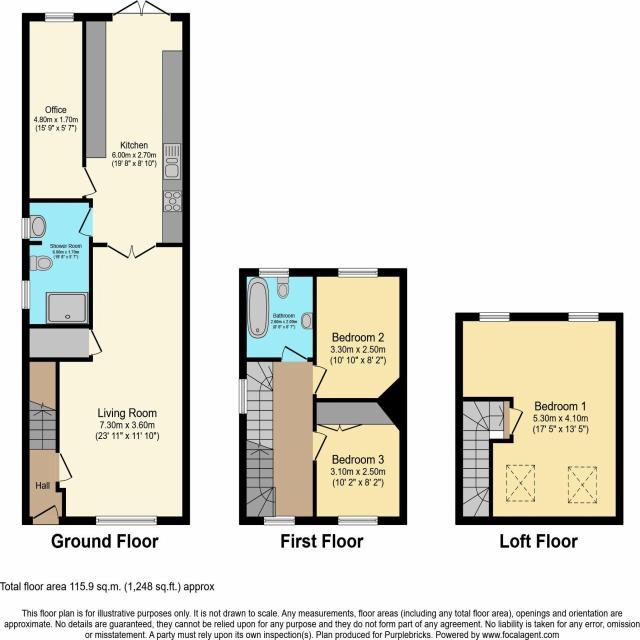DOOR: (55, 450, 74, 483), (31, 504, 60, 525), (280, 344, 308, 362), (82, 166, 98, 197), (312, 431, 328, 461), (77, 207, 93, 237), (313, 365, 328, 395), (509, 407, 524, 435), (89, 328, 103, 356)
DOUBLE DOOR: (108, 0, 174, 21), (100, 240, 160, 263)
ROOM: (55, 242, 190, 526), (454, 312, 624, 526), (77, 0, 190, 260), (312, 268, 408, 403), (312, 398, 408, 525)
WINDOW: (94, 514, 159, 527), (338, 515, 379, 526), (338, 268, 378, 278), (238, 378, 248, 415), (258, 267, 290, 278), (568, 312, 599, 323), (44, 12, 75, 23), (263, 516, 296, 526), (478, 312, 510, 322), (21, 280, 31, 310), (21, 217, 31, 240)
